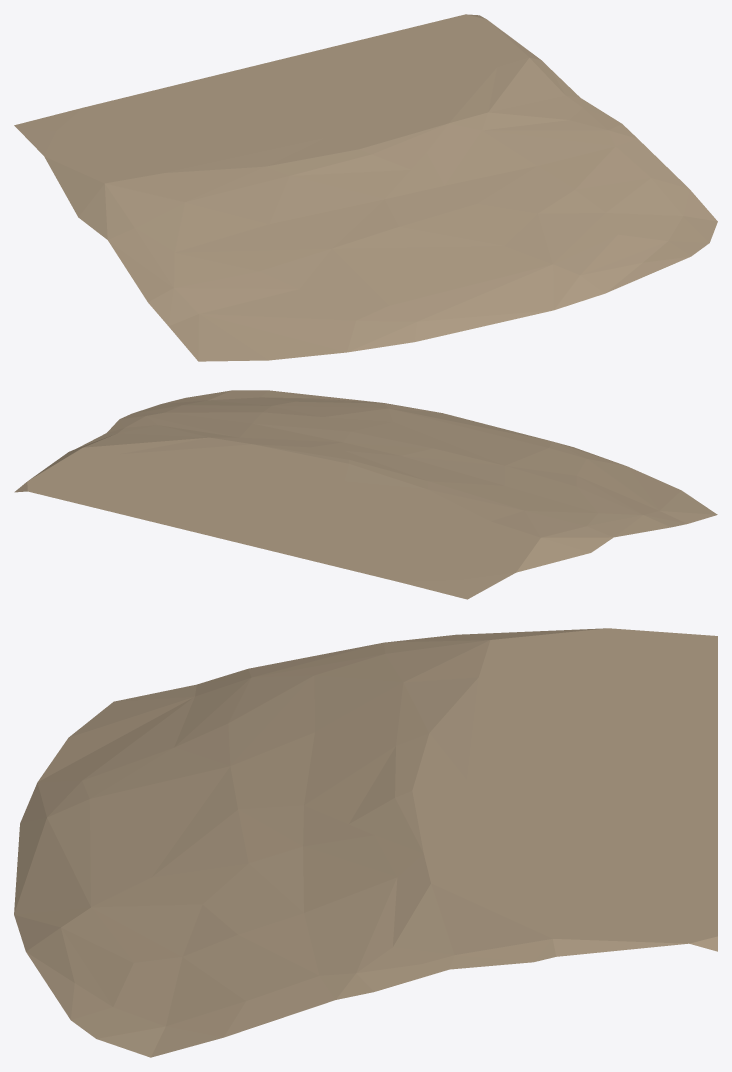
Rendered from SM_Envr_Nature_Terrain_Ground_Beach_01.fbx.
3 renders of one model, top to bottom at view 1: azimuth 30°, elevation 25°; view 2: azimuth 150°, elevation 25°; view 3: azimuth 270°, elevation 25°, orthographic. The views are drawn at different scales.
Visible parts, largest first — view 1: SM_Envr_Nature_Terrain_Ground_Beach_01; view 2: SM_Envr_Nature_Terrain_Ground_Beach_01; view 3: SM_Envr_Nature_Terrain_Ground_Beach_01.
Boxes of the visible parts, left/top/right/bottom form: SM_Envr_Nature_Terrain_Ground_Beach_01: left=14, top=14, right=717, bottom=361; SM_Envr_Nature_Terrain_Ground_Beach_01: left=14, top=390, right=717, bottom=599; SM_Envr_Nature_Terrain_Ground_Beach_01: left=14, top=628, right=717, bottom=1057.
Size of the model in its own units: 4201 by 500 by 3502.
